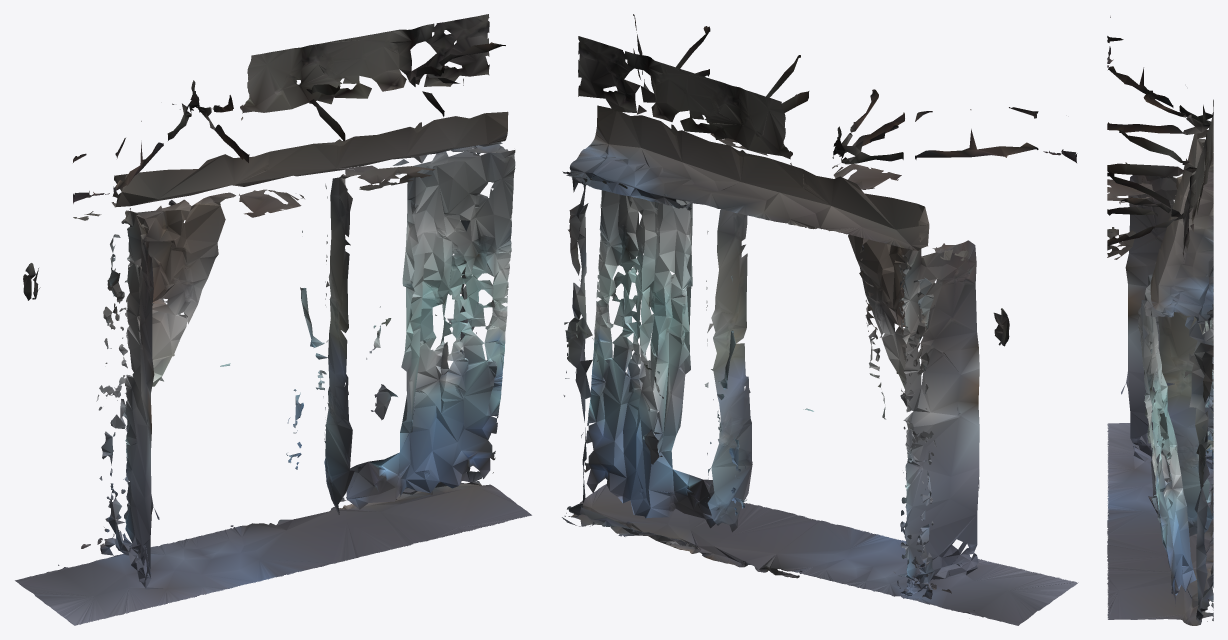
Rendered from coarse.glb.
3 renders of one model, left to right at view 1: azimuth 30°, elevation 25°; view 2: azimuth 150°, elevation 25°; view 3: azimuth 270°, elevation 25°, orthographic. The views are drawn at different scales.
Size of the model in its own units: 3.6 by 3.58 by 0.8255.
